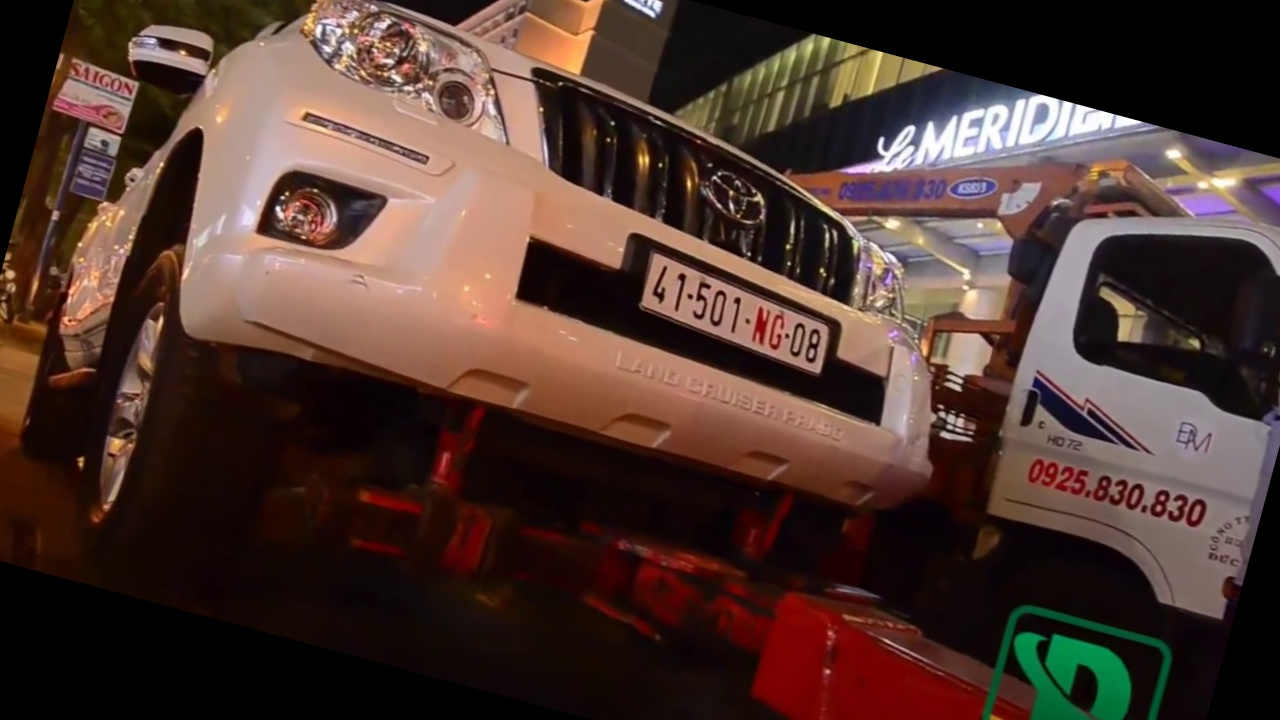plate: (635, 242, 835, 389)
